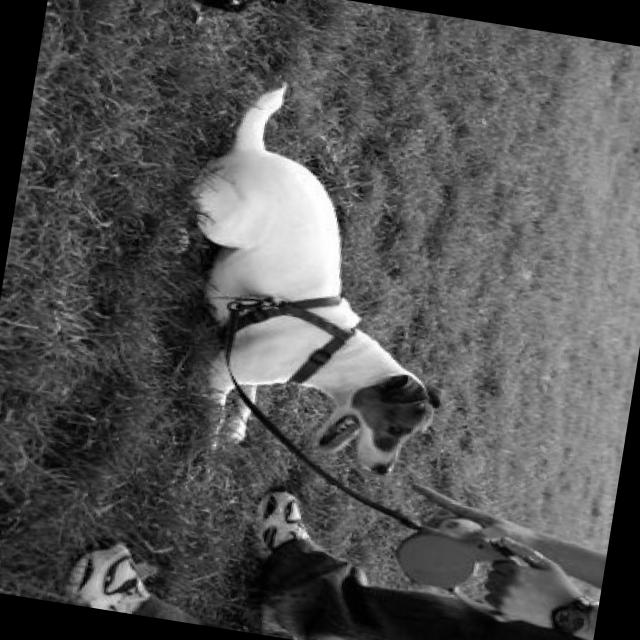laying down: (136, 68, 492, 496)
